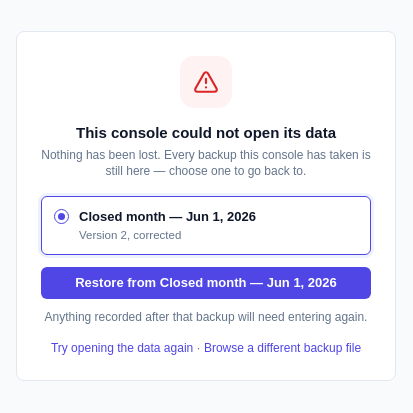
Test: DataRecovery — forced entry (data could not be opened) › shows an inline error and stays put when restoring fails
Click the button "Restore from Closed month — Jun 1, 2026". click: (206, 283)
box: [41,267,371,299]
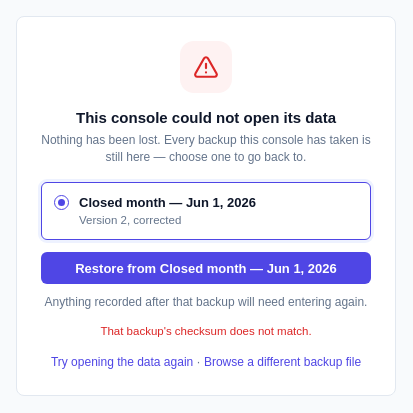
Expected: the text "That backup's checksum does not match." is shown, [100,325,312,337]
